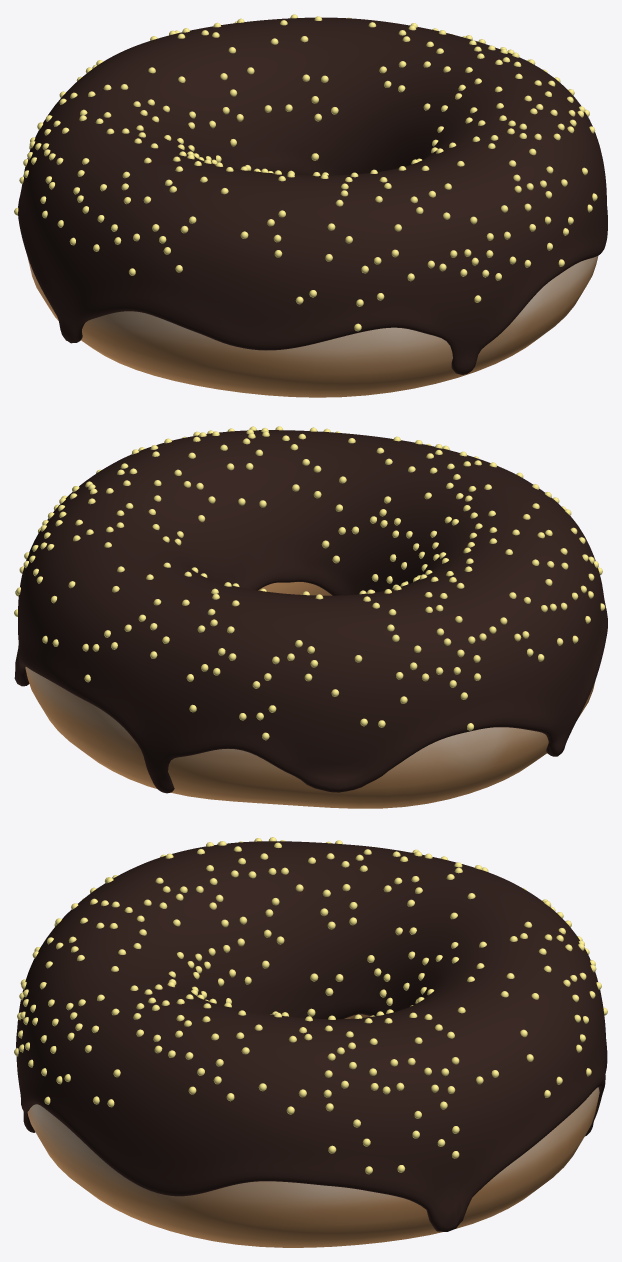
The model's file is donut.glb.
3 views of the same model, one above another, from view 1: azimuth 30°, elevation 25°; view 2: azimuth 150°, elevation 25°; view 3: azimuth 270°, elevation 25° (orthographic). The views are drawn at different scales.
Parts seen in each view (by area): view 1: Icing, Donut; view 2: Icing, Donut; view 3: Icing, Donut.
Boxes of the visible parts, x1=… form: Icing: x1=18, y1=17, x2=607, y2=374; Donut: x1=27, y1=256, x2=598, y2=397; Icing: x1=14, y1=430, x2=607, y2=793; Donut: x1=25, y1=582, x2=595, y2=808; Icing: x1=16, y1=841, x2=607, y2=1231; Donut: x1=27, y1=1014, x2=599, y2=1247.
Bounding box in the file's own units: 0.1546 × 0.0602 × 0.1476.
3 materials, 1 textured.
